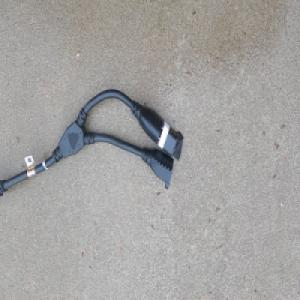Wire: (0, 88, 184, 199)
